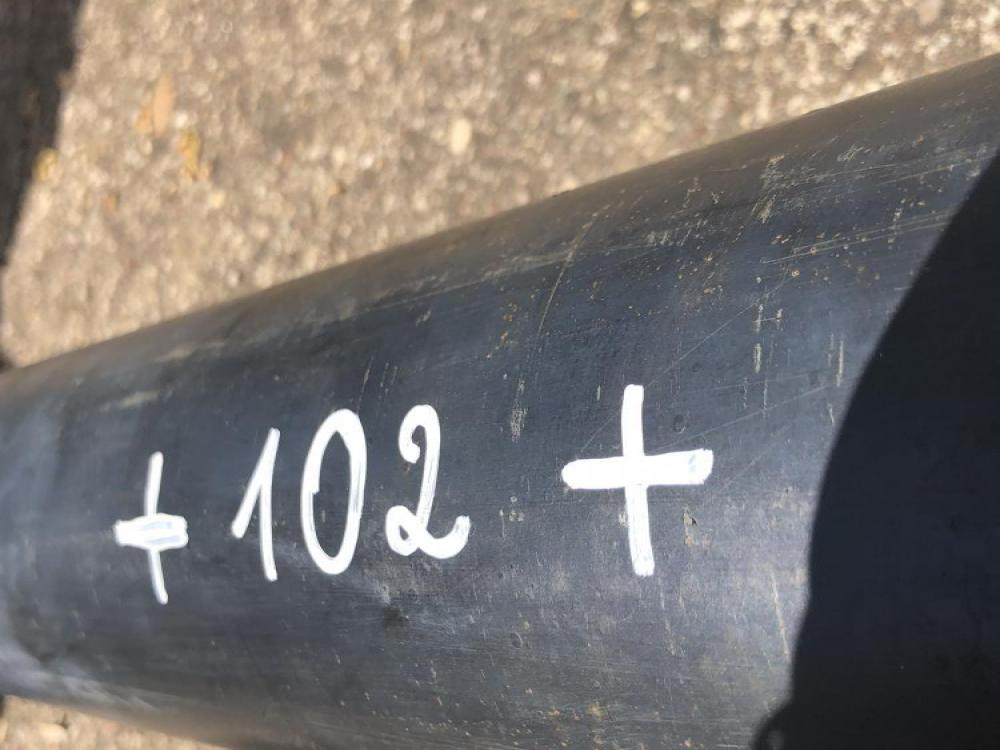+: (230, 419, 490, 536), (195, 84, 400, 143)
0: (233, 224, 458, 276)
1: (225, 172, 432, 211)
2: (256, 288, 463, 354)
